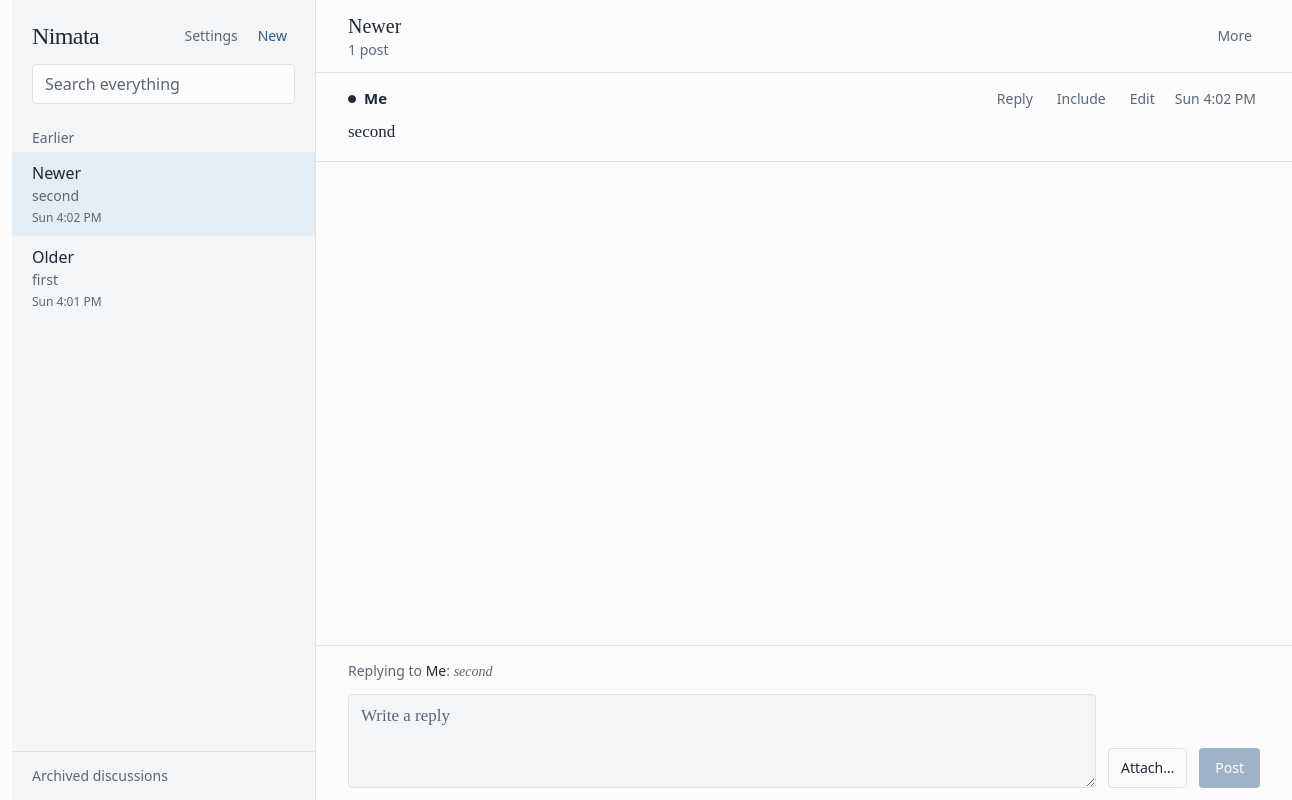
Test: organising discussions › orders discussions by their latest post
Click the button "Older first Sun 4:01 PM": [53, 257] box [12, 236, 315, 320]
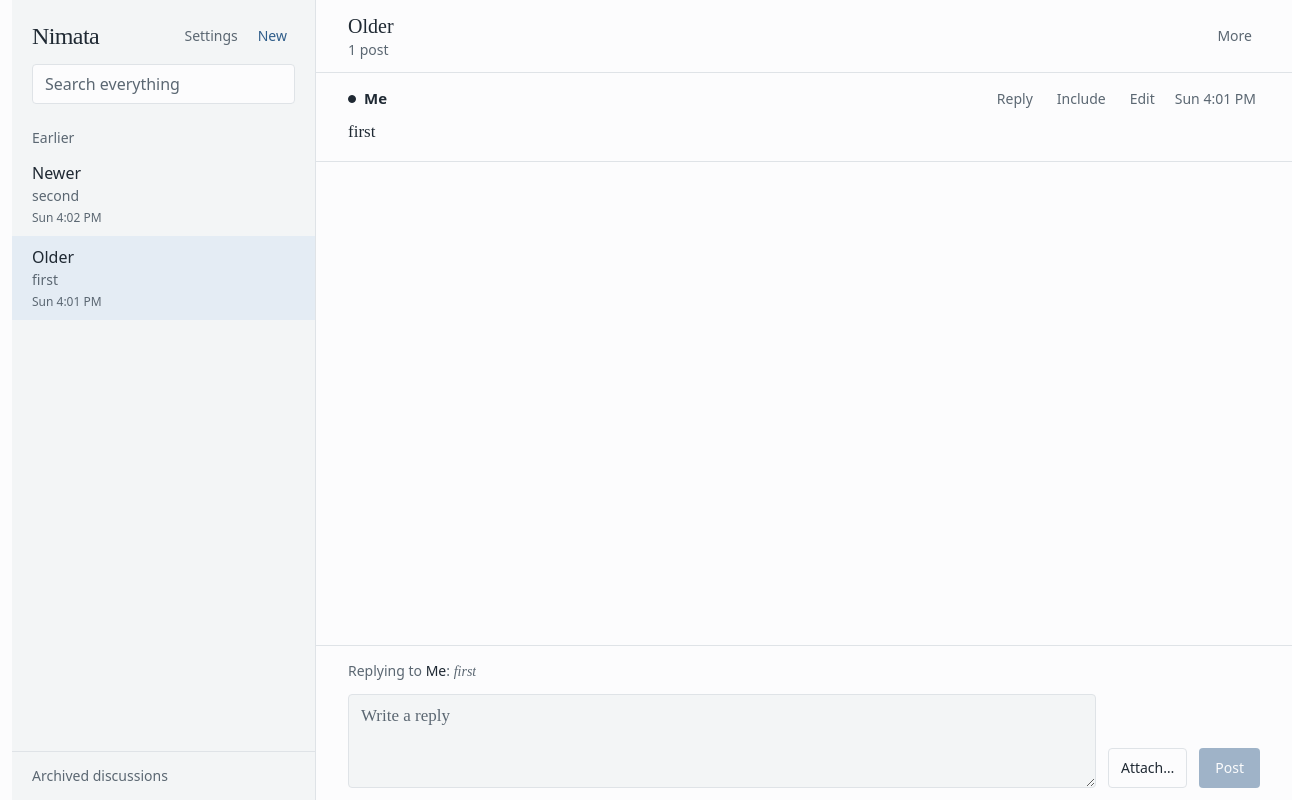
Check: the list named "Posts in order written" is shown, box [316, 73, 1291, 162]
In the text box named "Post text": [722, 741] box [348, 694, 1096, 788], type "revived"
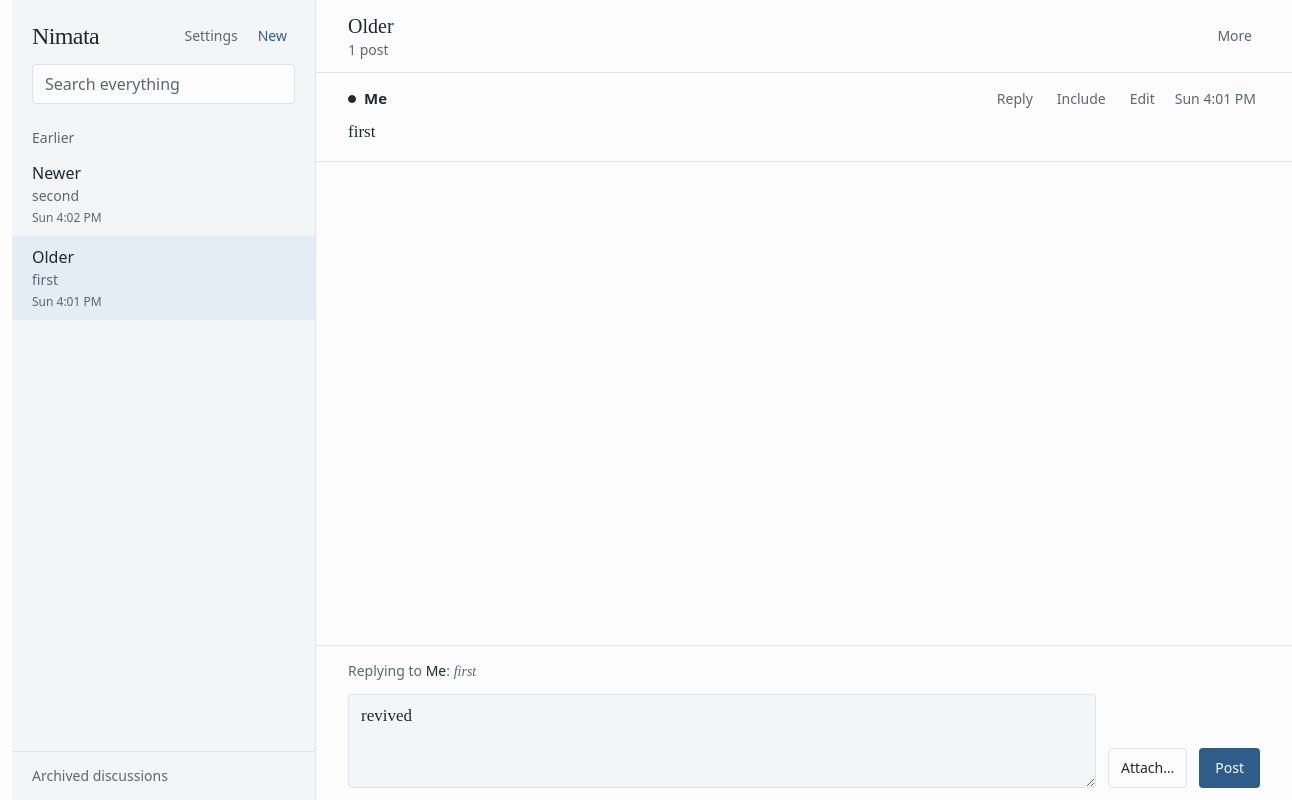
Click the button "Post": [1230, 768] box [1199, 748, 1260, 788]
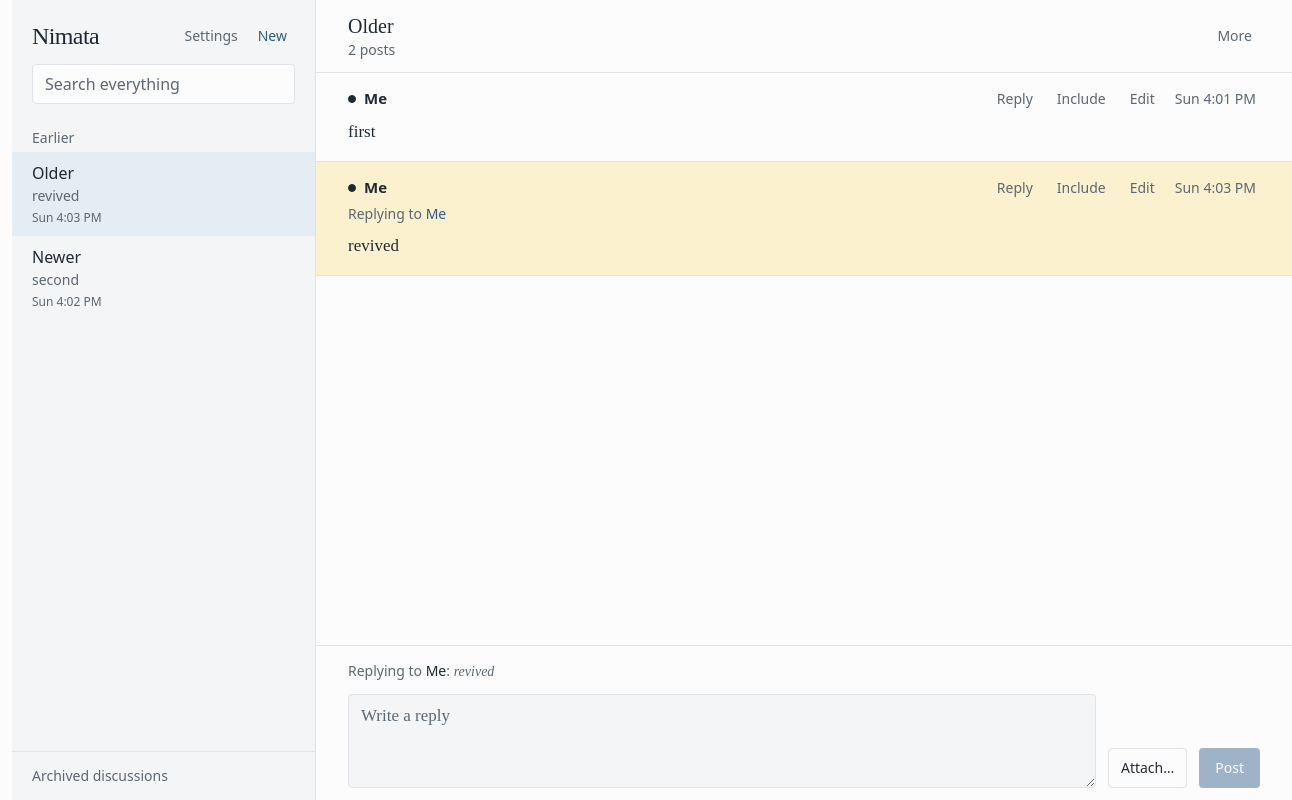
Check: the text "revived" below "first" is shown, box [348, 236, 399, 255]
